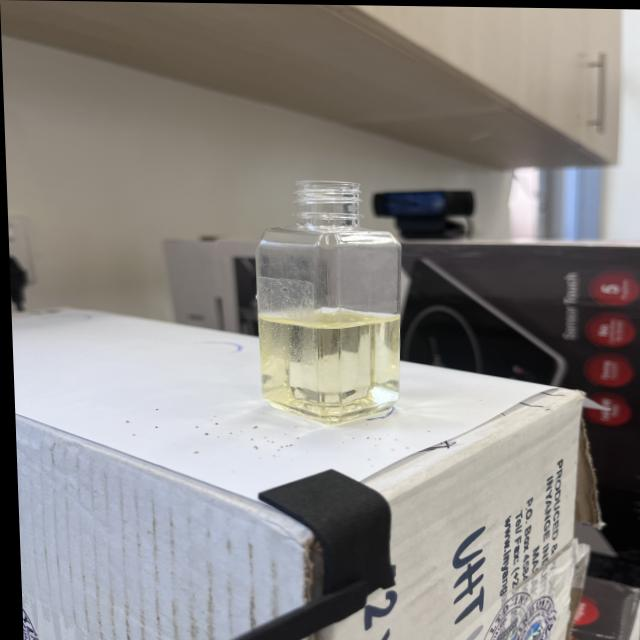oil: (257, 303, 402, 429)
